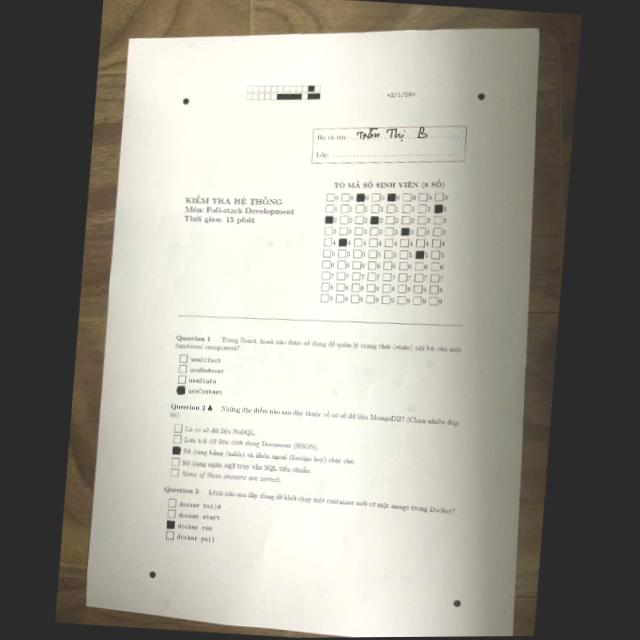Markers: (451, 599, 461, 608), (476, 91, 484, 99), (147, 570, 155, 578), (181, 96, 188, 103)
